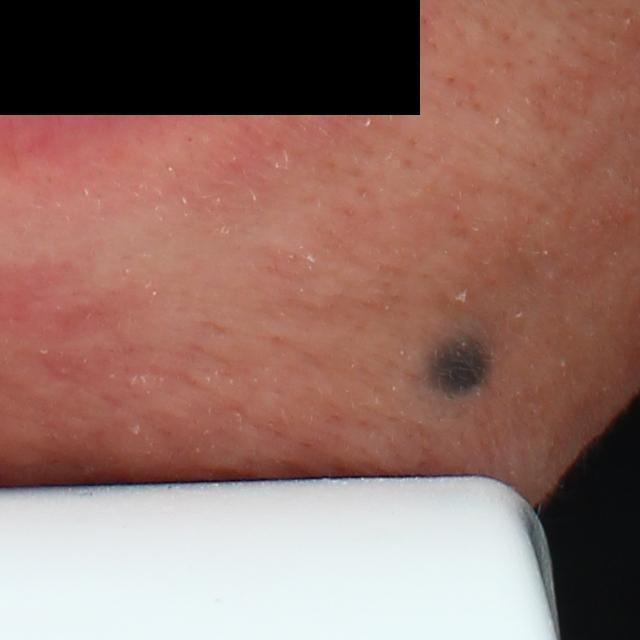nevus: (410, 327, 503, 402)
